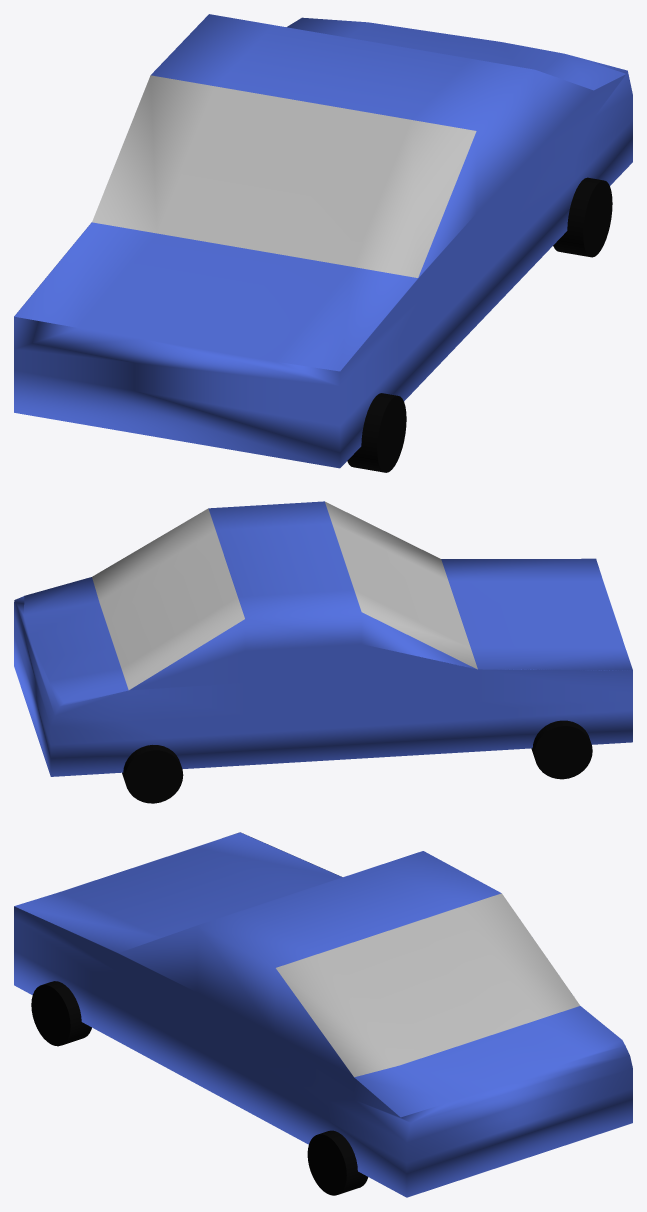
Rendered from car.gltf.
3 renders of one model, top to bottom at view 1: azimuth 30°, elevation 25°; view 2: azimuth 150°, elevation 25°; view 3: azimuth 270°, elevation 25°, orthographic. The views are drawn at different scales.
Parts seen in each view (by area): view 1: Cube, Cylinder, Cylinder.001; view 2: Cube, Cylinder.003, Cylinder.002; view 3: Cube, Cylinder, Cylinder.001.
Part boxes in pixels (bbox=[...]): Cube: bbox=[14, 14, 632, 468]; Cylinder: bbox=[347, 393, 406, 472]; Cylinder.001: bbox=[553, 177, 612, 257]; Cube: bbox=[14, 501, 632, 776]; Cylinder.003: bbox=[531, 720, 592, 779]; Cylinder.002: bbox=[122, 745, 183, 803]; Cube: bbox=[14, 832, 632, 1197]; Cylinder: bbox=[31, 981, 91, 1046]; Cylinder.001: bbox=[307, 1130, 368, 1195].
Bounding box in the file's own units: 2.13 × 0.6514 × 1.94.
